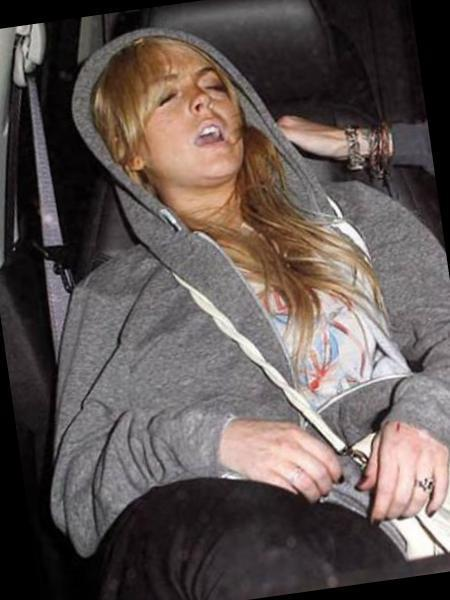Drunk: (133, 39, 241, 178)
